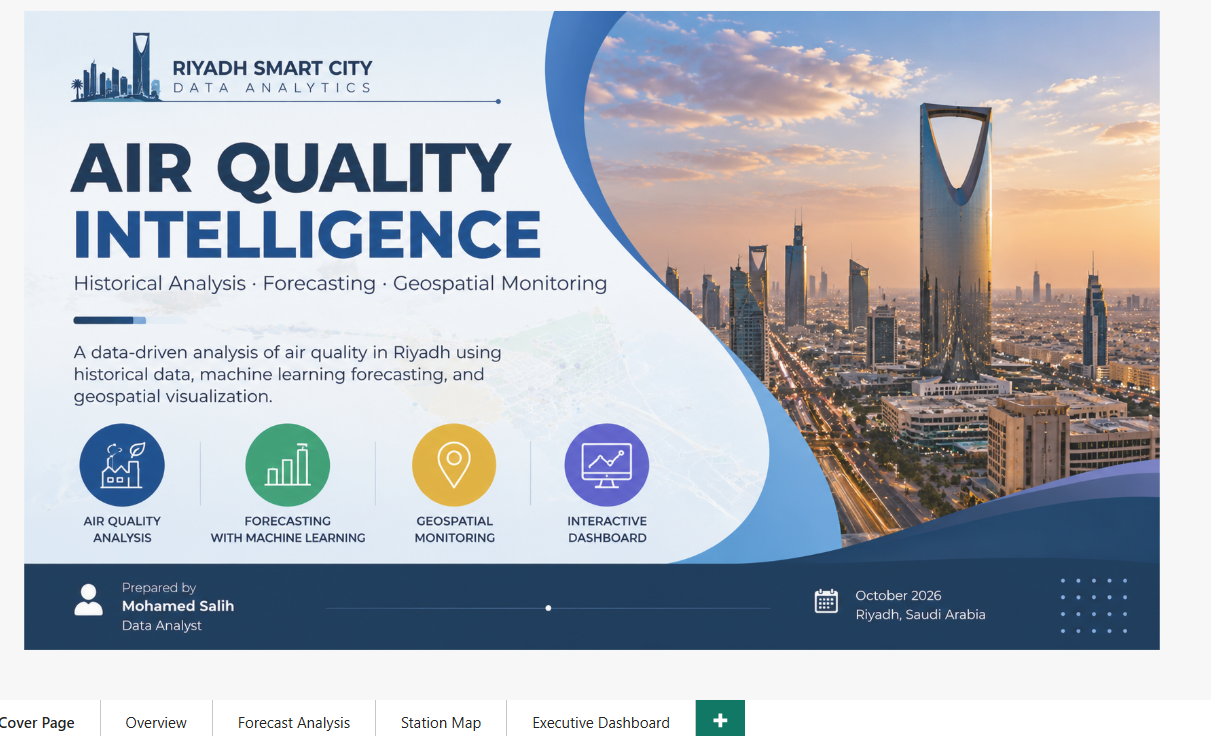

The page's visual inventory and layout, read from the dashboard file:
{"tool":"powerbi","page":{"name":"Cover Page","canvas":[1920,1080],"ordinal":0},"visuals":[{"type":"textbox","box":[10,0,280,280],"z":0}]}

Visuals, with their boxes on the page's 1920x1080 design canvas (x1, y1, x2, y2). These are canvas units, not pixel positions in the 1211x736 screenshot, which may show the page scaled, cropped or inside an application window:
textbox: 10,0,290,280
